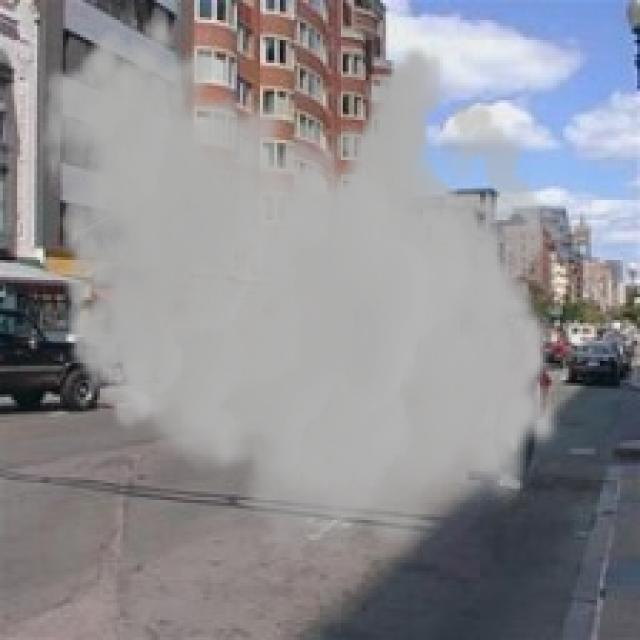smoke: (37, 9, 563, 577)
